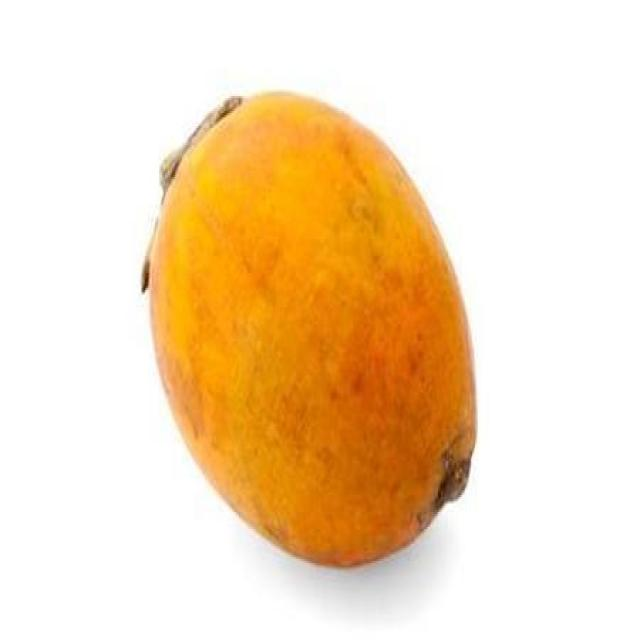good: (144, 92, 479, 572)
